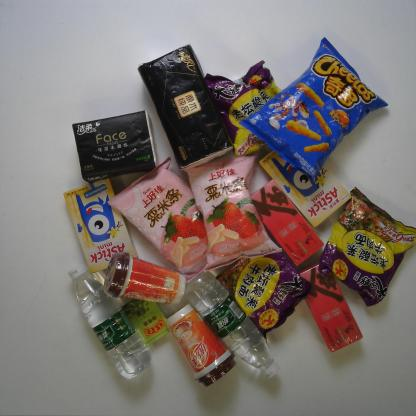Candy: (122, 294, 173, 347)
Dessert: (259, 144, 353, 230), (60, 177, 141, 274)
Drink: (185, 273, 282, 381), (67, 265, 155, 384)
Instant Drink: (245, 178, 325, 267), (297, 261, 364, 355), (166, 304, 238, 388), (104, 252, 190, 307)
Instant Noodles: (320, 186, 415, 307), (202, 57, 296, 157), (215, 248, 313, 339)
Puffed Food: (240, 34, 388, 186), (106, 152, 221, 280), (184, 154, 285, 270)
Tissue: (138, 44, 236, 169), (72, 110, 160, 182)
